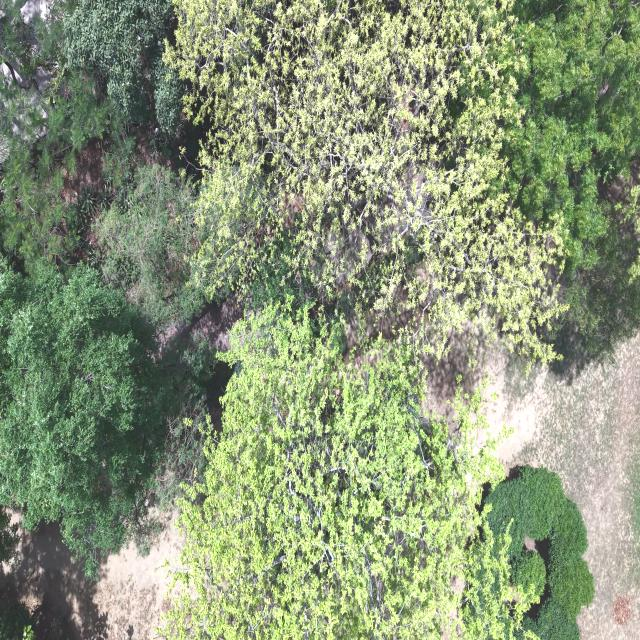DRY_AREA: (485, 333, 639, 639), (486, 334, 639, 639), (487, 334, 639, 639), (0, 520, 180, 639), (0, 522, 180, 639), (0, 522, 179, 639)
VEGETATION_TREE: (0, 0, 639, 639), (1, 1, 639, 359), (164, 0, 639, 359), (166, 0, 557, 358), (0, 2, 213, 575), (165, 304, 520, 639), (0, 264, 178, 575), (504, 0, 639, 370), (0, 1, 183, 268), (504, 0, 639, 271), (0, 2, 111, 269), (484, 466, 593, 639), (94, 162, 201, 323), (550, 185, 639, 378), (61, 0, 183, 136), (441, 507, 538, 639), (487, 466, 563, 554), (154, 394, 209, 512), (547, 500, 593, 617), (518, 466, 563, 539), (522, 593, 579, 639), (511, 548, 545, 600), (0, 593, 32, 639), (0, 595, 32, 639), (0, 507, 18, 562), (630, 455, 639, 535)
